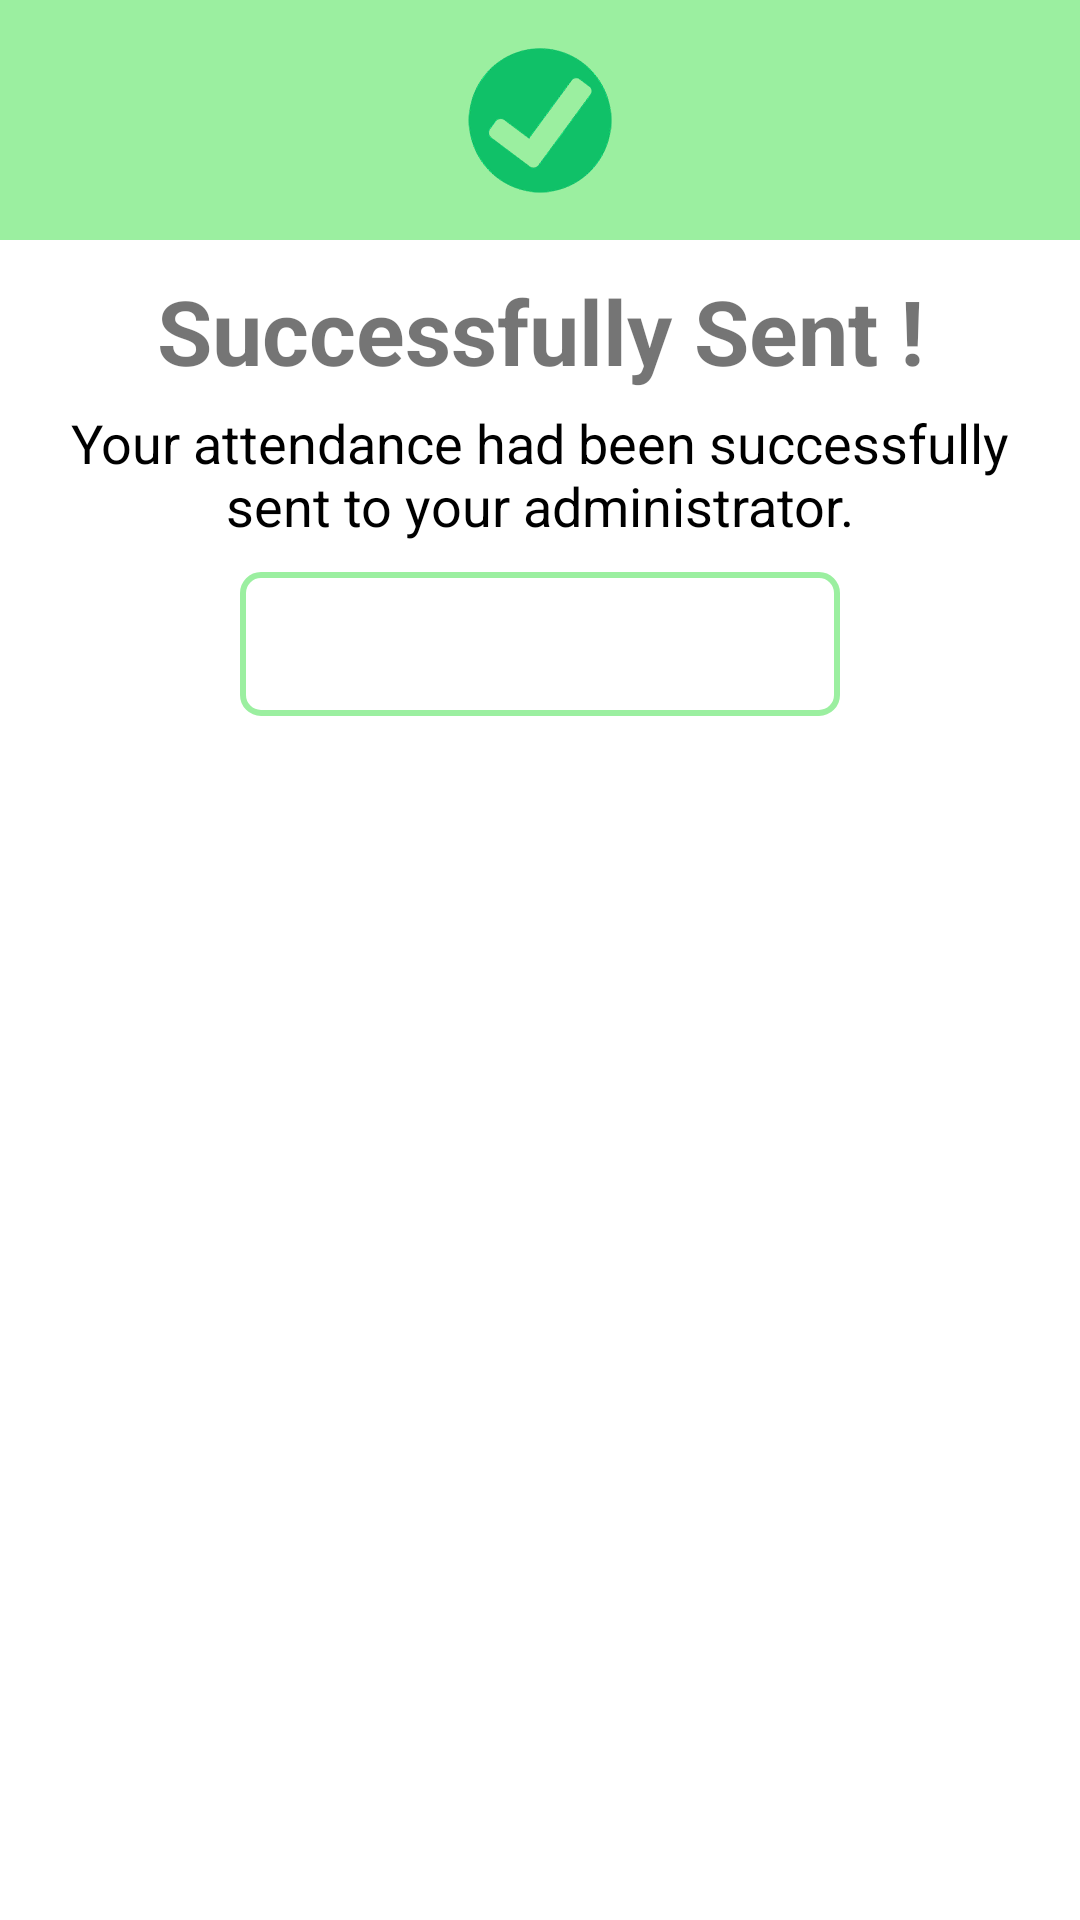

Where to tap for icons on this 1080*1920 app screen, as [x,y]:
tick: [540,120]
